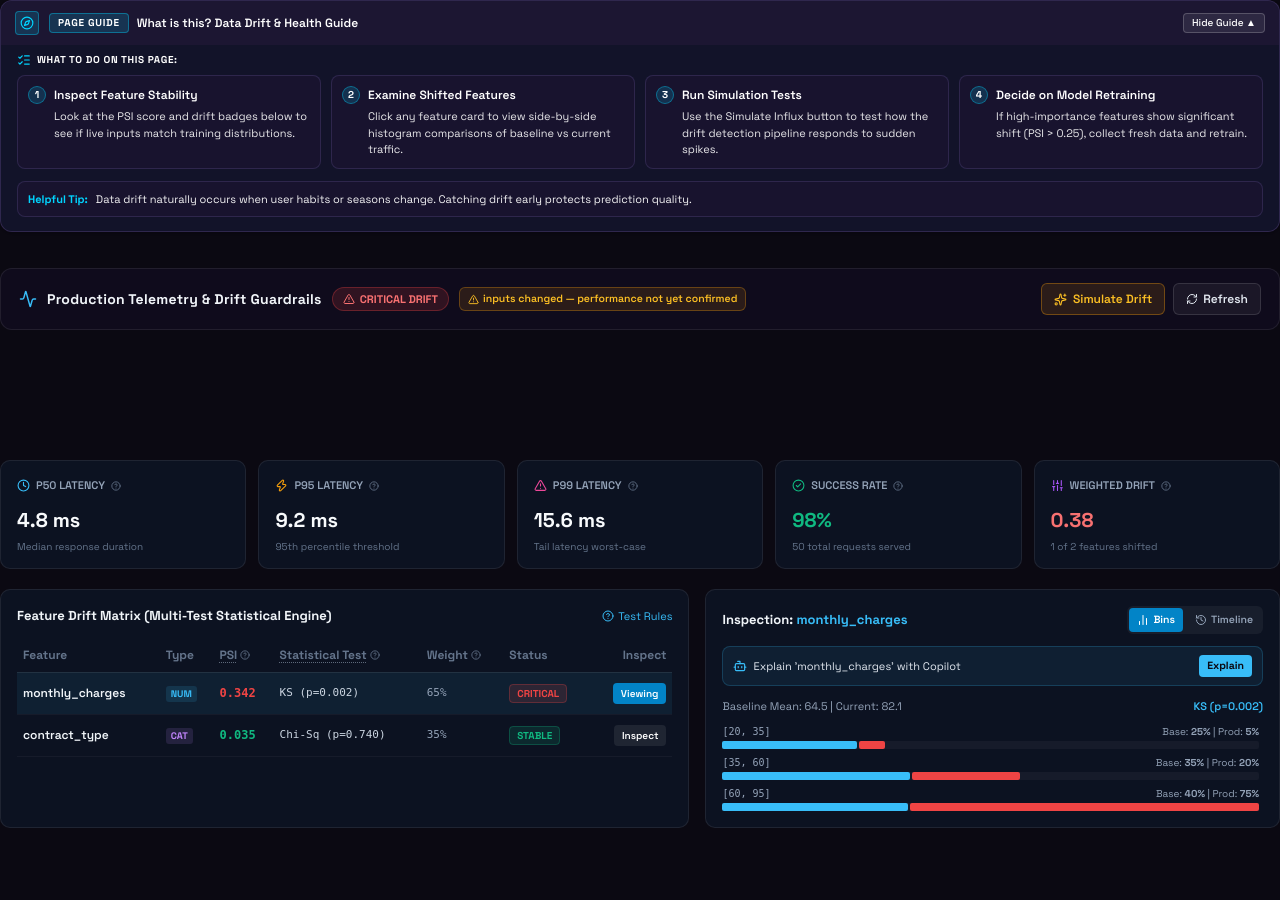
DriftMonitoringPanel Component › expands plain-language Copilot diagnostics using real numbers on screen
Expected: the text "Explain 'monthly_charges' with Copilot" is shown, [754,658,961,674]
Click the button "Explain" at (1226, 666), box [1199,655,1252,677]
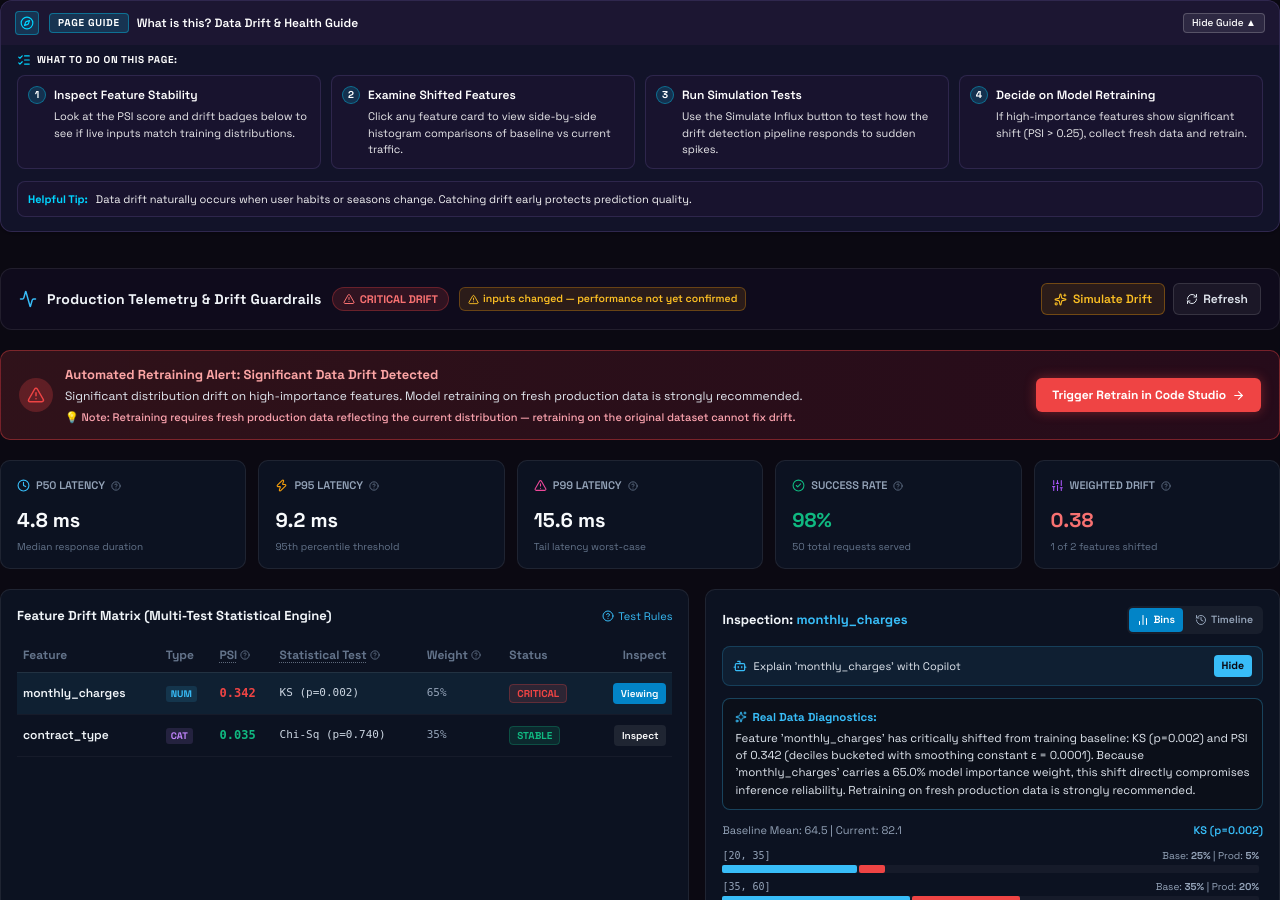
Expected: the text "smoothing constant ε = 0.0001" is shown, [736,731,1250,797]
